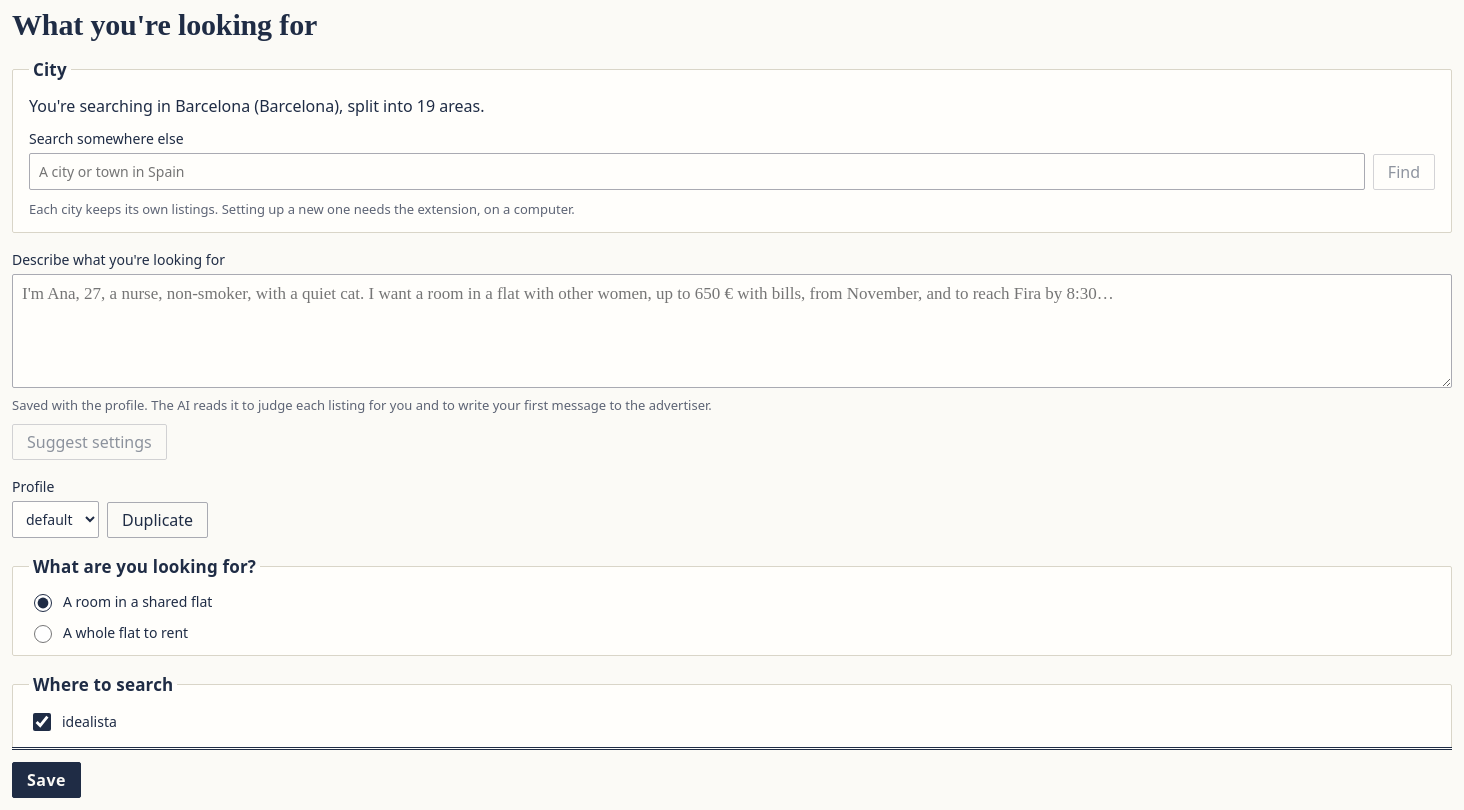
Test: a suggested cap below the ideal lowers the ideal, so applying and saving works
Type "como mucho 400" into the text box labelled "Describe what you're looking for" at (732, 331), box [12,274,1452,388]
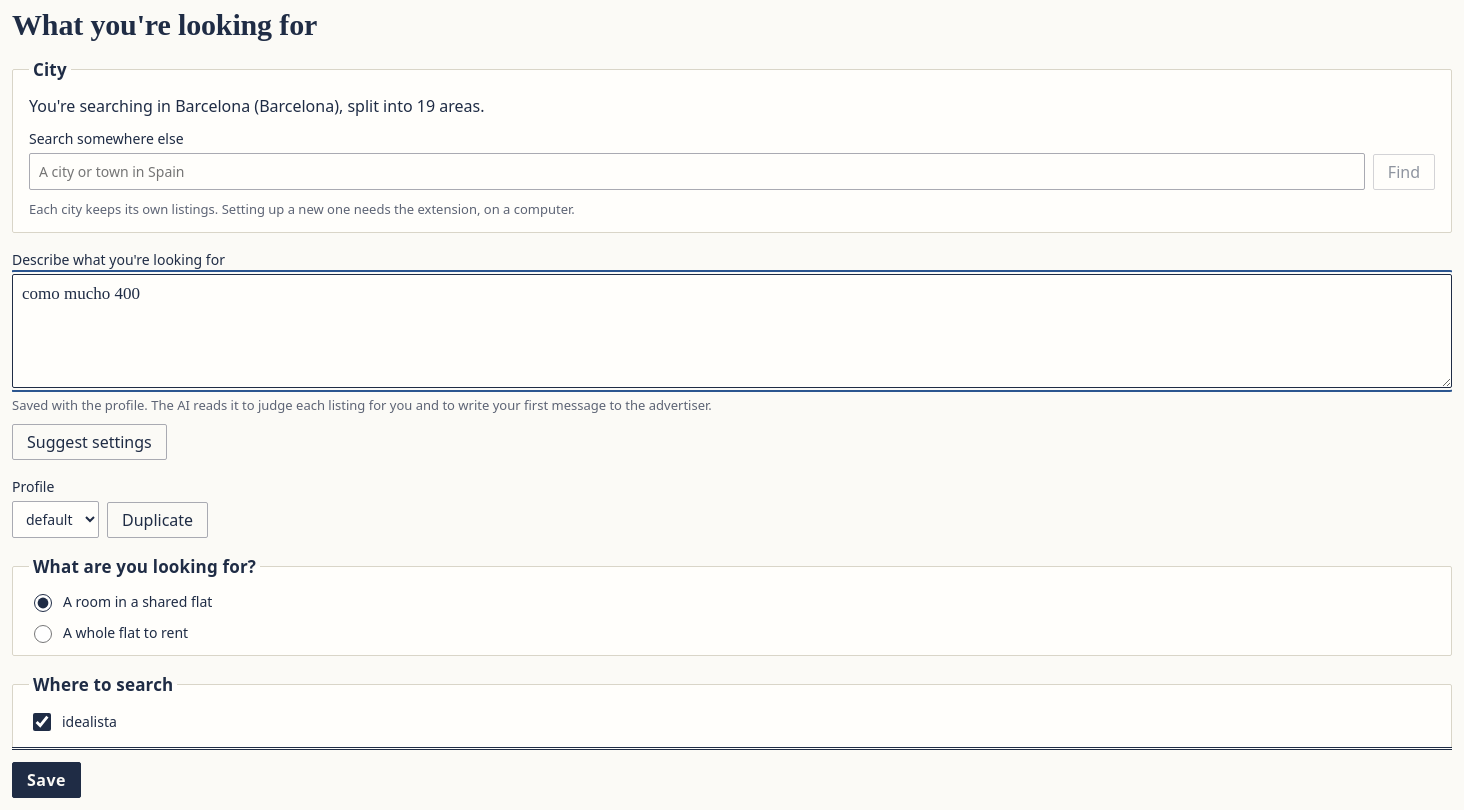
Click the button "Suggest settings" at (89, 442), box [12,424,167,460]
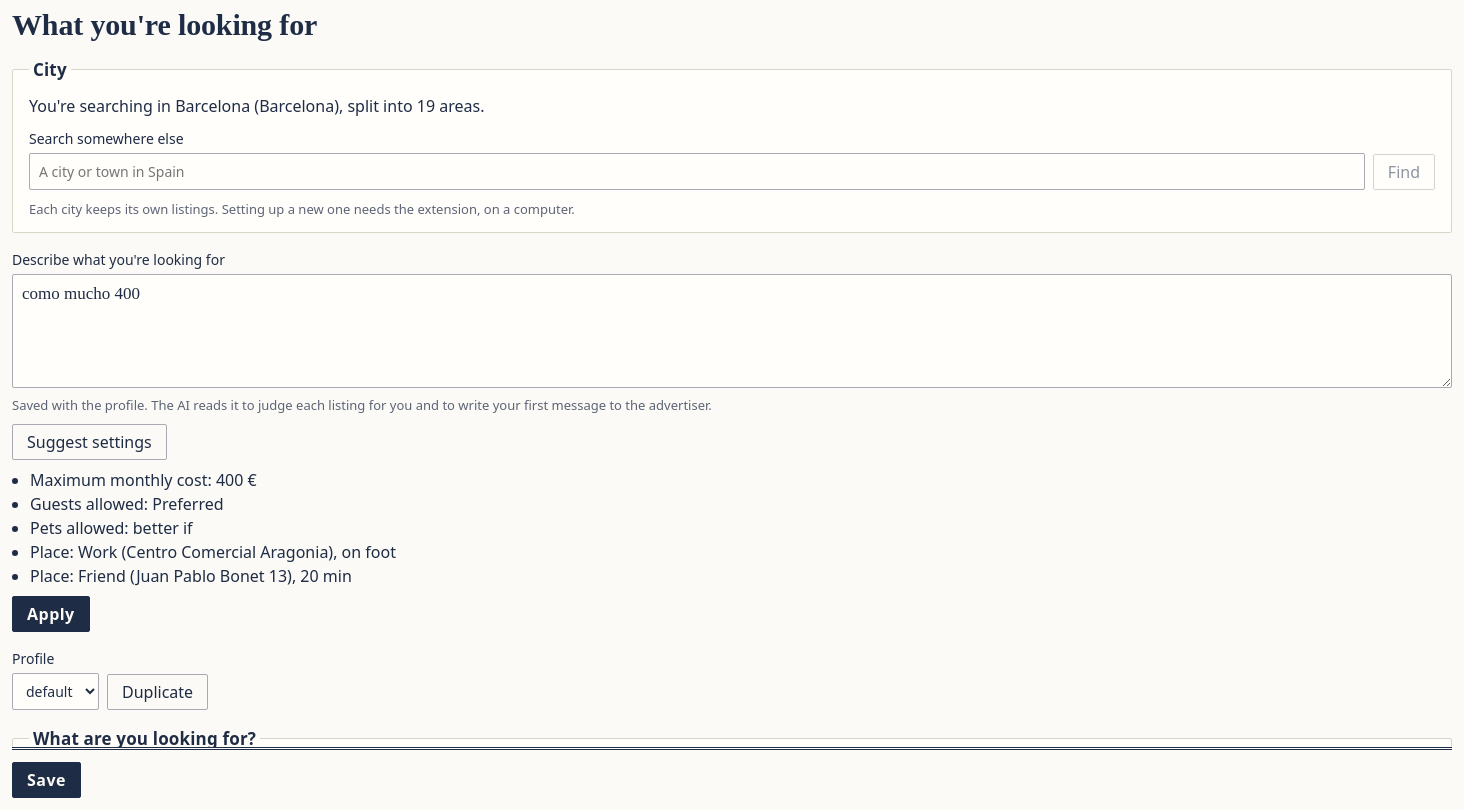
Now the list item "Pets allowed: better if" is shown, box [30,517,193,539]
Now the list item "Place: Work (Centro Comercial Aragonia), on foot" is shown, box [30,540,396,564]
Click the button "Apply" at (51, 614), box [12,596,90,632]
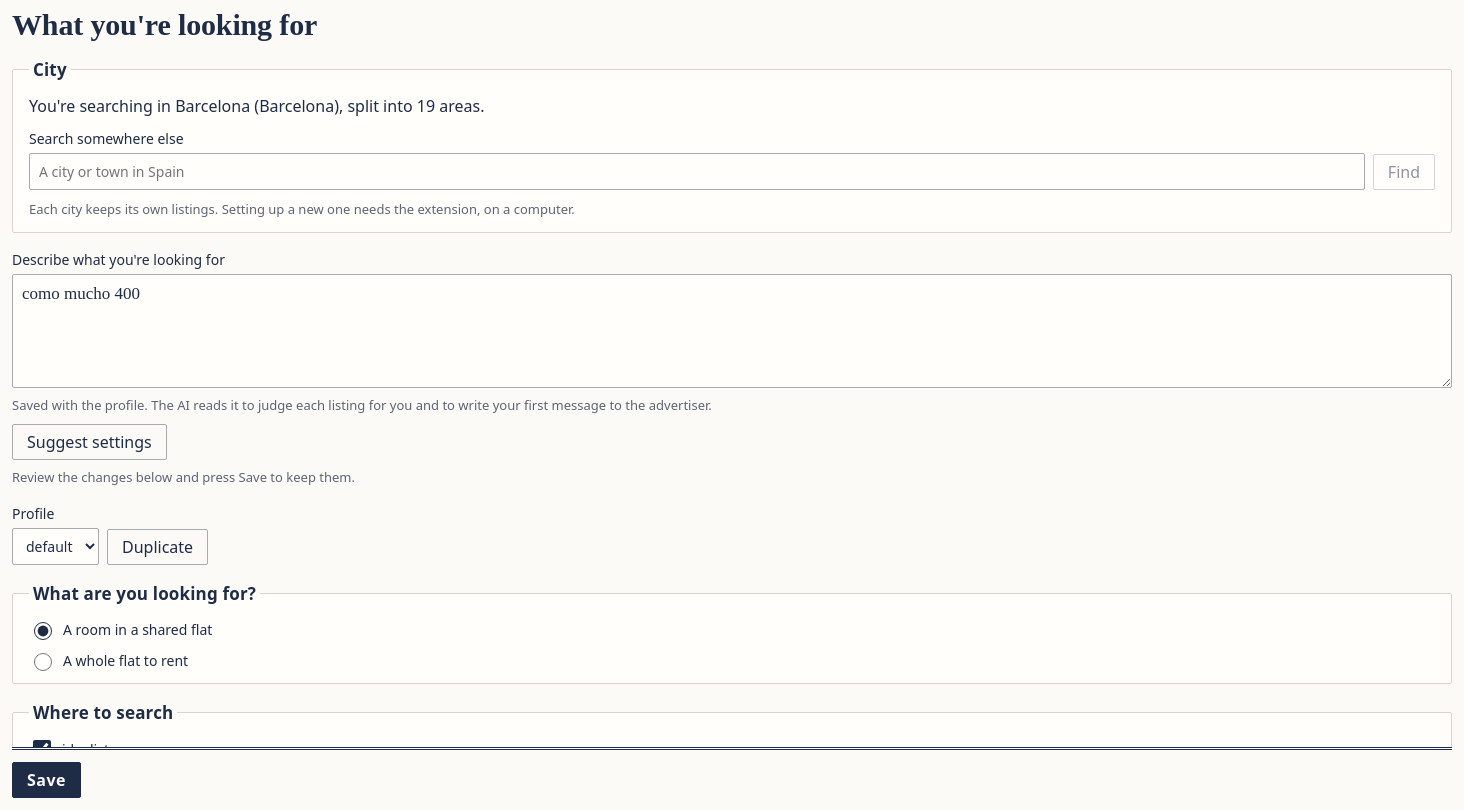
Now the text "Review the changes below and press Save to keep them." is shown, box [12,468,355,487]
Click the button "Save" at (46, 780), box [12,762,81,798]
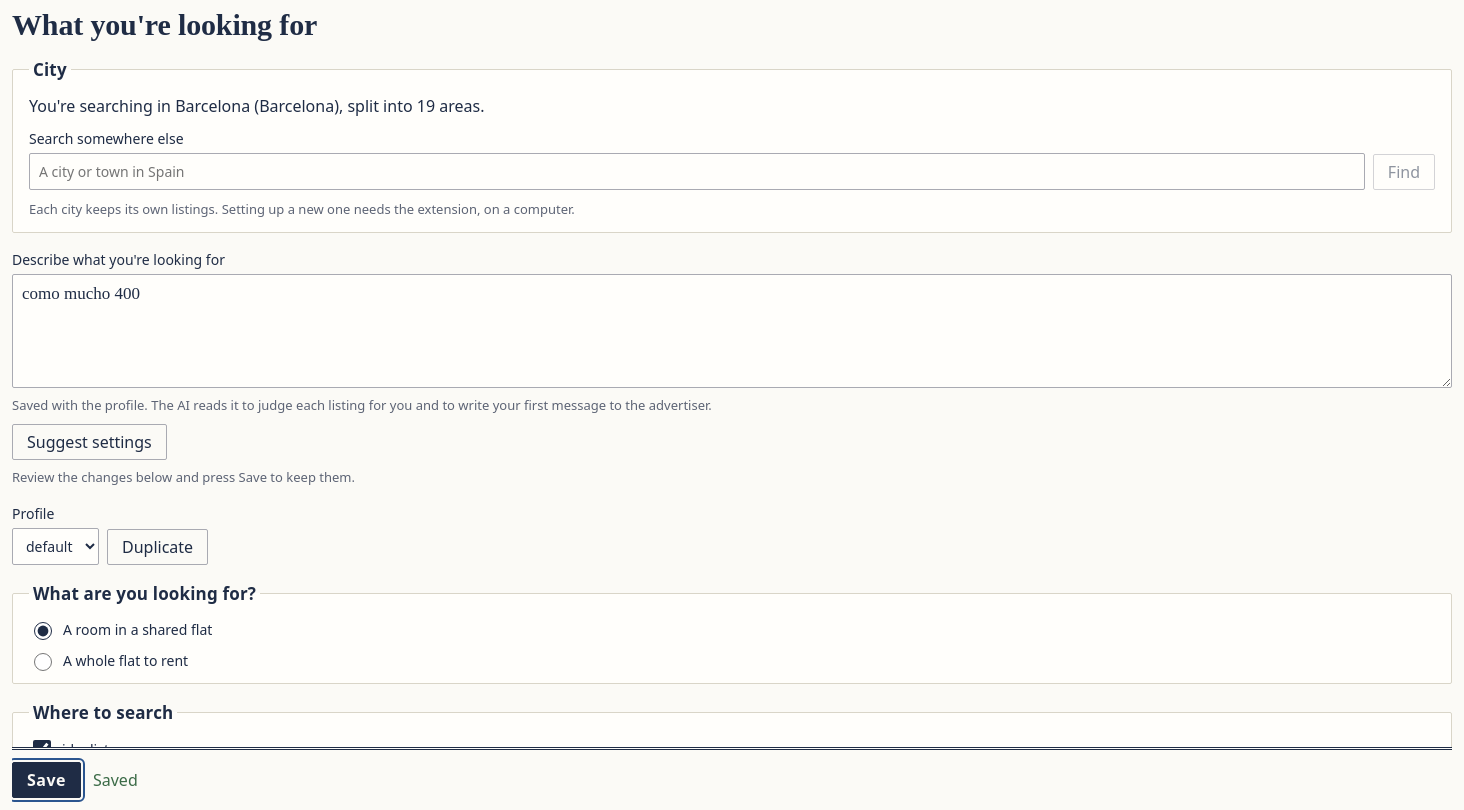
Now the text "Saved" is shown, box [93,768,138,792]
